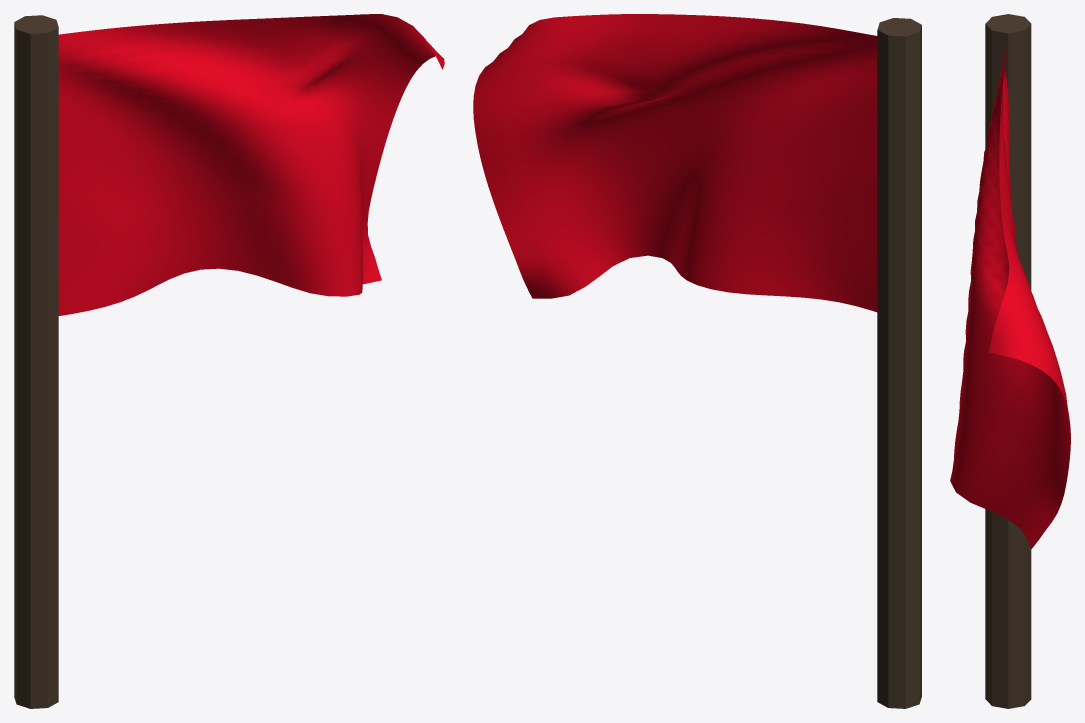
File: flag.glb
3 renders of one model, left to right at view 1: azimuth 30°, elevation 25°; view 2: azimuth 150°, elevation 25°; view 3: azimuth 270°, elevation 25°, orthographic.
Parts seen in each view (by area): view 1: Plane, Cylinder; view 2: Plane, Cylinder; view 3: Plane, Cylinder.
Boxes of the visible parts, x1,y1,x2,y2 form: Plane: [58, 14, 444, 315]; Cylinder: [14, 15, 58, 708]; Plane: [473, 14, 877, 312]; Cylinder: [877, 18, 921, 708]; Plane: [950, 48, 1070, 549]; Cylinder: [985, 14, 1031, 708].
Size of the model in its own units: 3.2 by 4.79 by 0.7771.
